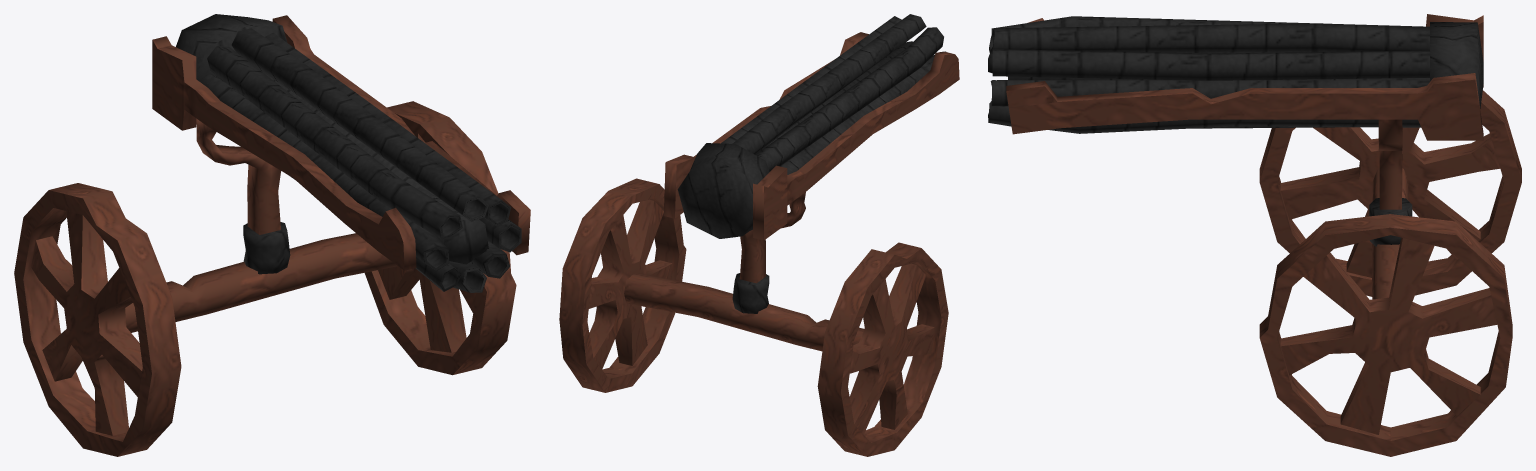
File: Metralhadora_2.glb
The picture shows the model from 3 angles, left to right: view 1: azimuth 30°, elevation 25°; view 2: azimuth 150°, elevation 25°; view 3: azimuth 270°, elevation 25°; orthographic projection. The views are drawn at different scales.
Parts seen in each view (by area): view 1: Metralhadora.2; view 2: Metralhadora.2; view 3: Metralhadora.2.
Boxes of the visible parts, x1,y1,x2,y2 form: Metralhadora.2: [14, 14, 530, 456]; Metralhadora.2: [559, 14, 959, 456]; Metralhadora.2: [988, 14, 1521, 456].
Bounding box in the file's own units: 1.35 × 1.28 × 1.79.
1 material, 1 textured.
